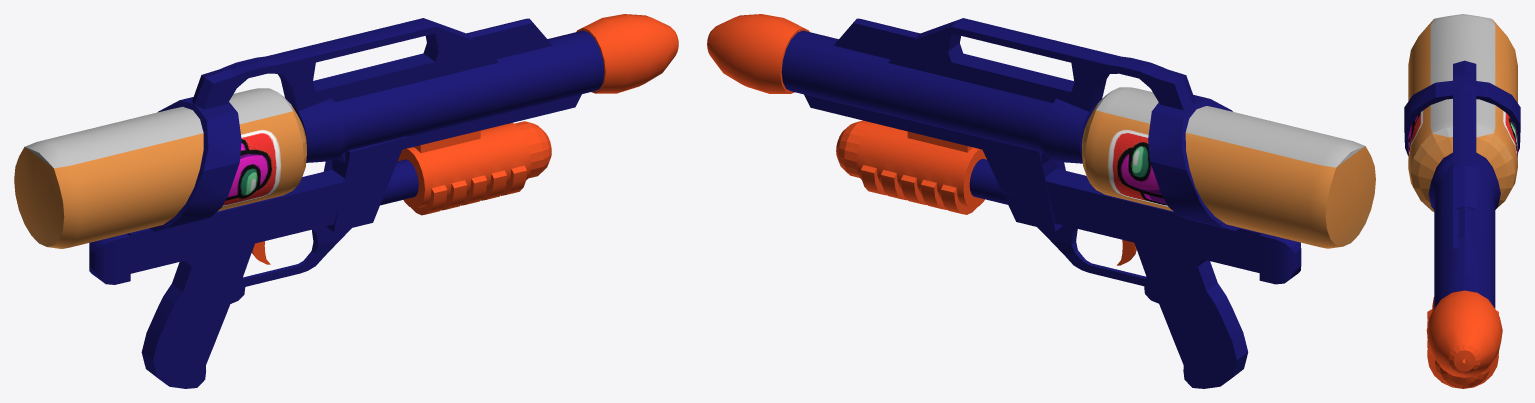
Rendered from GrilKryda2.fbx.
3 views of the same model, side by side, from view 1: azimuth 30°, elevation 25°; view 2: azimuth 150°, elevation 25°; view 3: azimuth 270°, elevation 25° (orthographic). The views are drawn at different scales.
Parts seen in each view (by area): view 1: GrilKryda1_LOD0; view 2: GrilKryda1_LOD0; view 3: GrilKryda1_LOD0.
Part boxes in pixels (x1=…): GrilKryda1_LOD0: x1=14, y1=14, x2=678, y2=388; GrilKryda1_LOD0: x1=707, y1=14, x2=1375, y2=388; GrilKryda1_LOD0: x1=1404, y1=14, x2=1520, y2=388.
Size of the model in its own units: 16.46 by 2.64 by 7.48.
